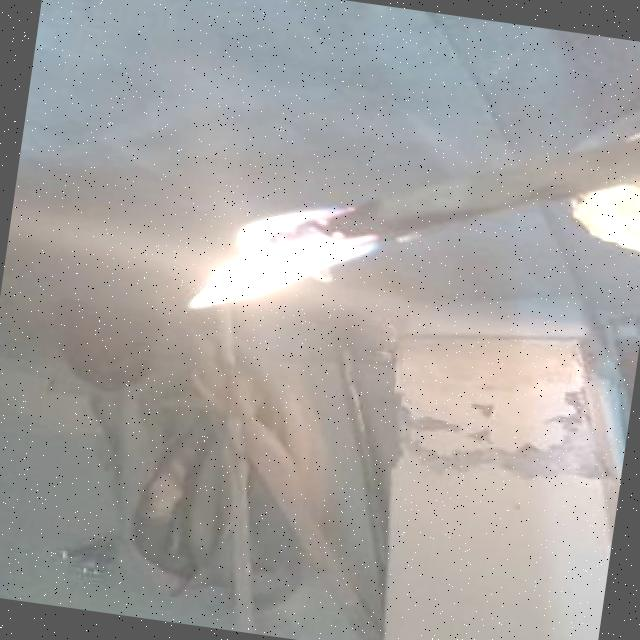fire: (165, 184, 420, 342)
